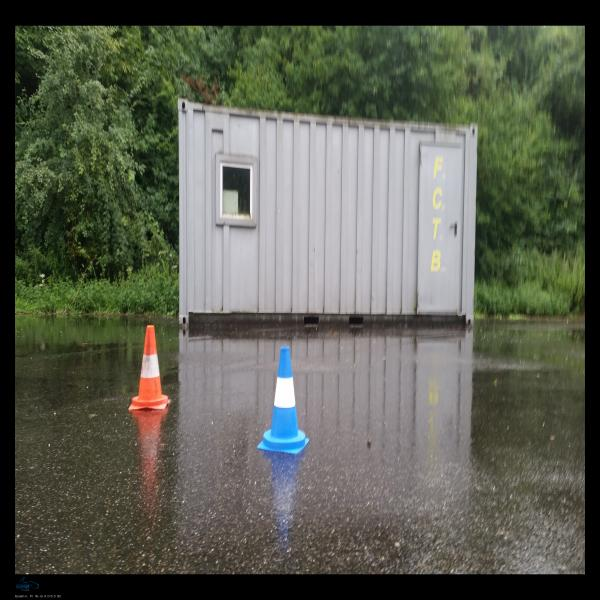blue_cone: (257, 347, 309, 454)
orange_cone: (128, 325, 171, 411)
